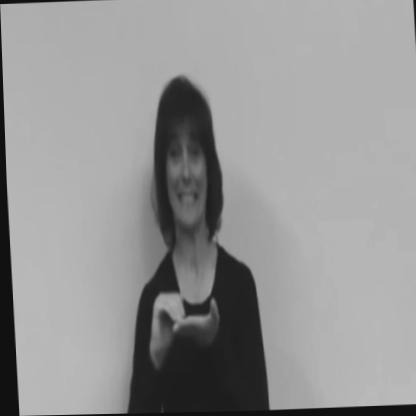ExcuseMe: (128, 269, 222, 368)
